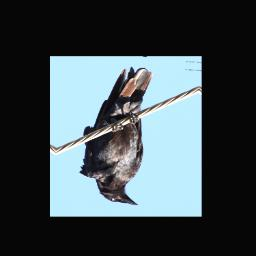Crow: (75, 63, 155, 207)
